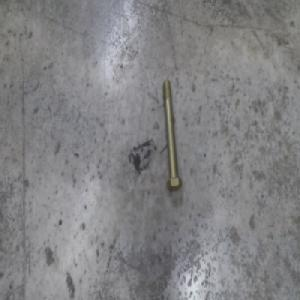Bolt: (161, 78, 182, 191)
